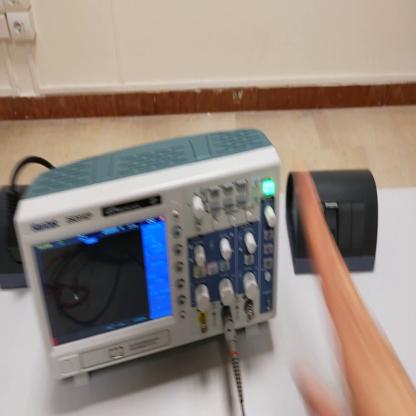hand: (282, 167, 416, 415)
oscilloscope: (7, 122, 278, 388)
socket: (1, 185, 30, 290)
